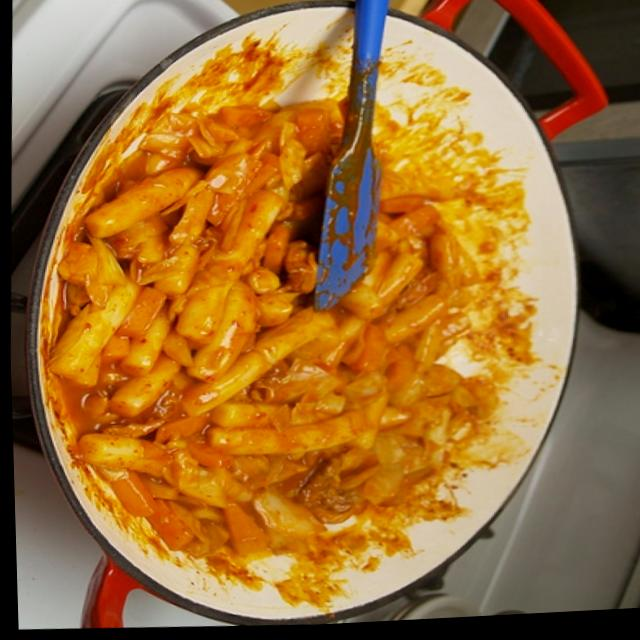鸡肉料理 含炸鸡: (0, 0, 612, 640)
